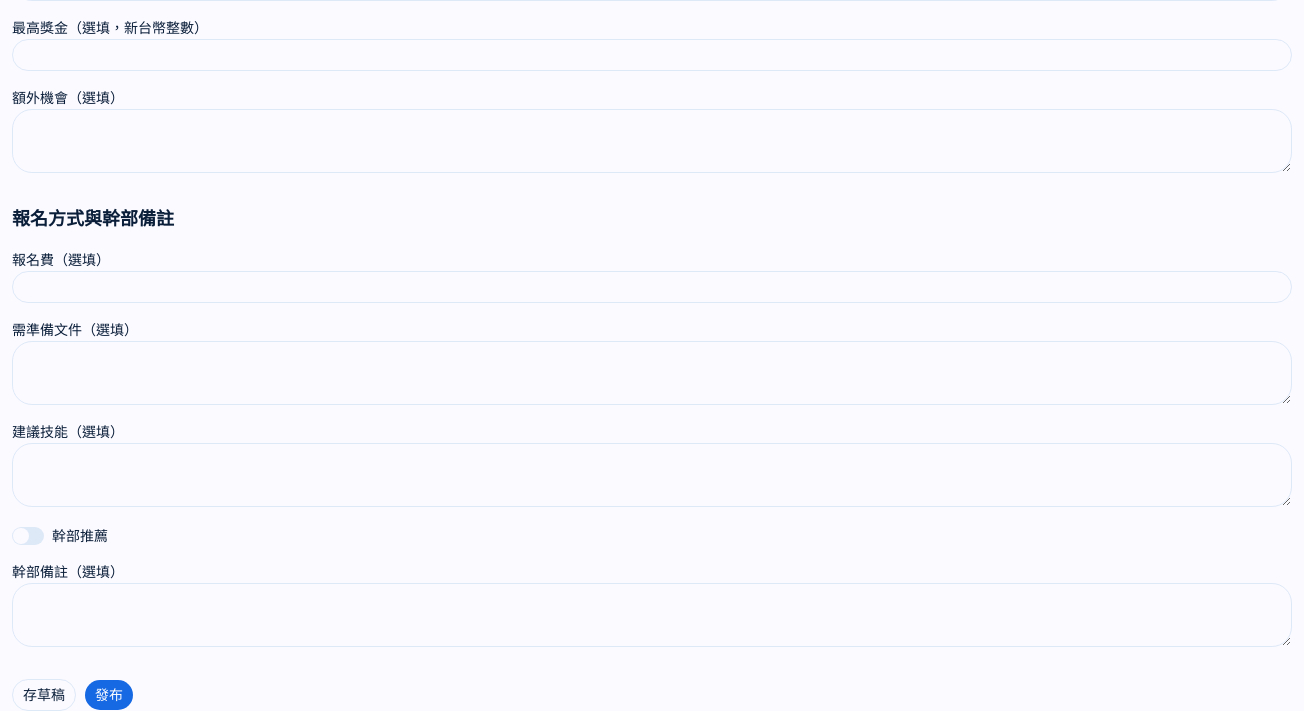
Test case: CompetitionForm › 編輯既有草稿：存草稿成功但發布失敗，停在原地顯示錯誤（不會重複建立，因為已經有 competitionId）
The image size is (1304, 711).
(page scrolled)
Click the button "發布".
click(109, 695)  # box [84,679,134,710]
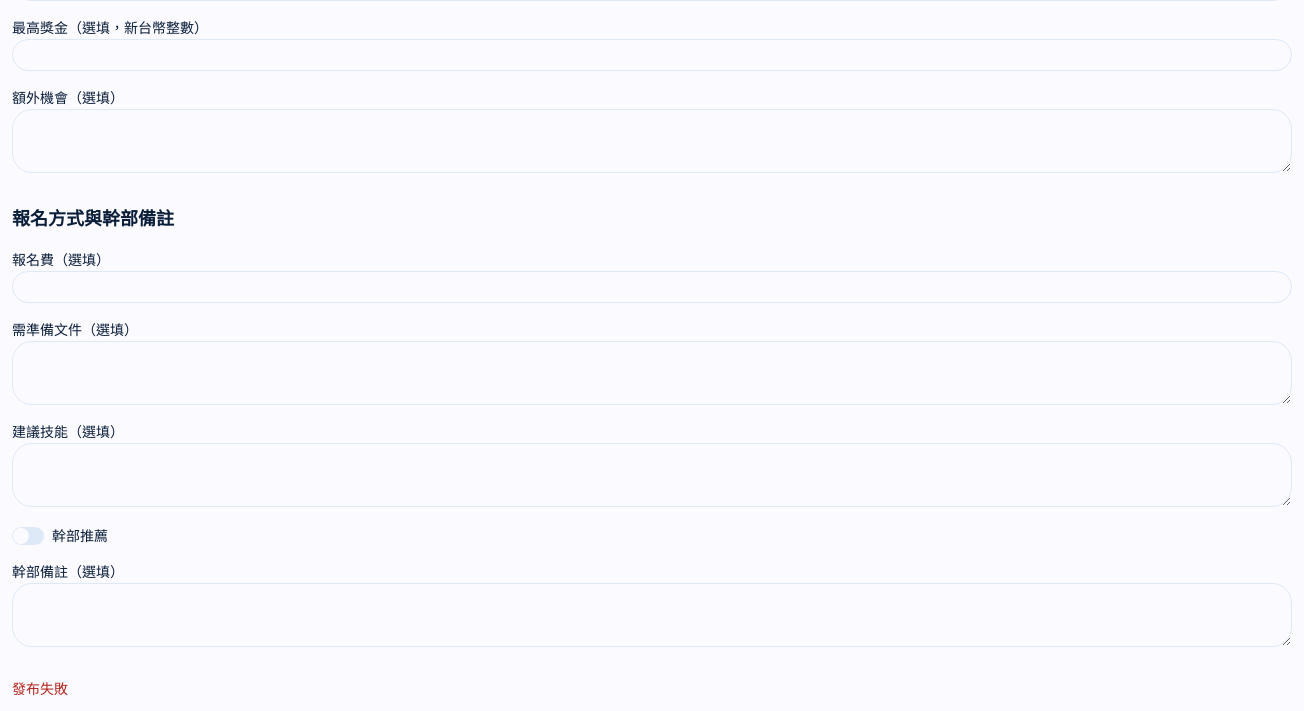
Expected: the text "發布失敗" is shown, [12,681,68,697]
